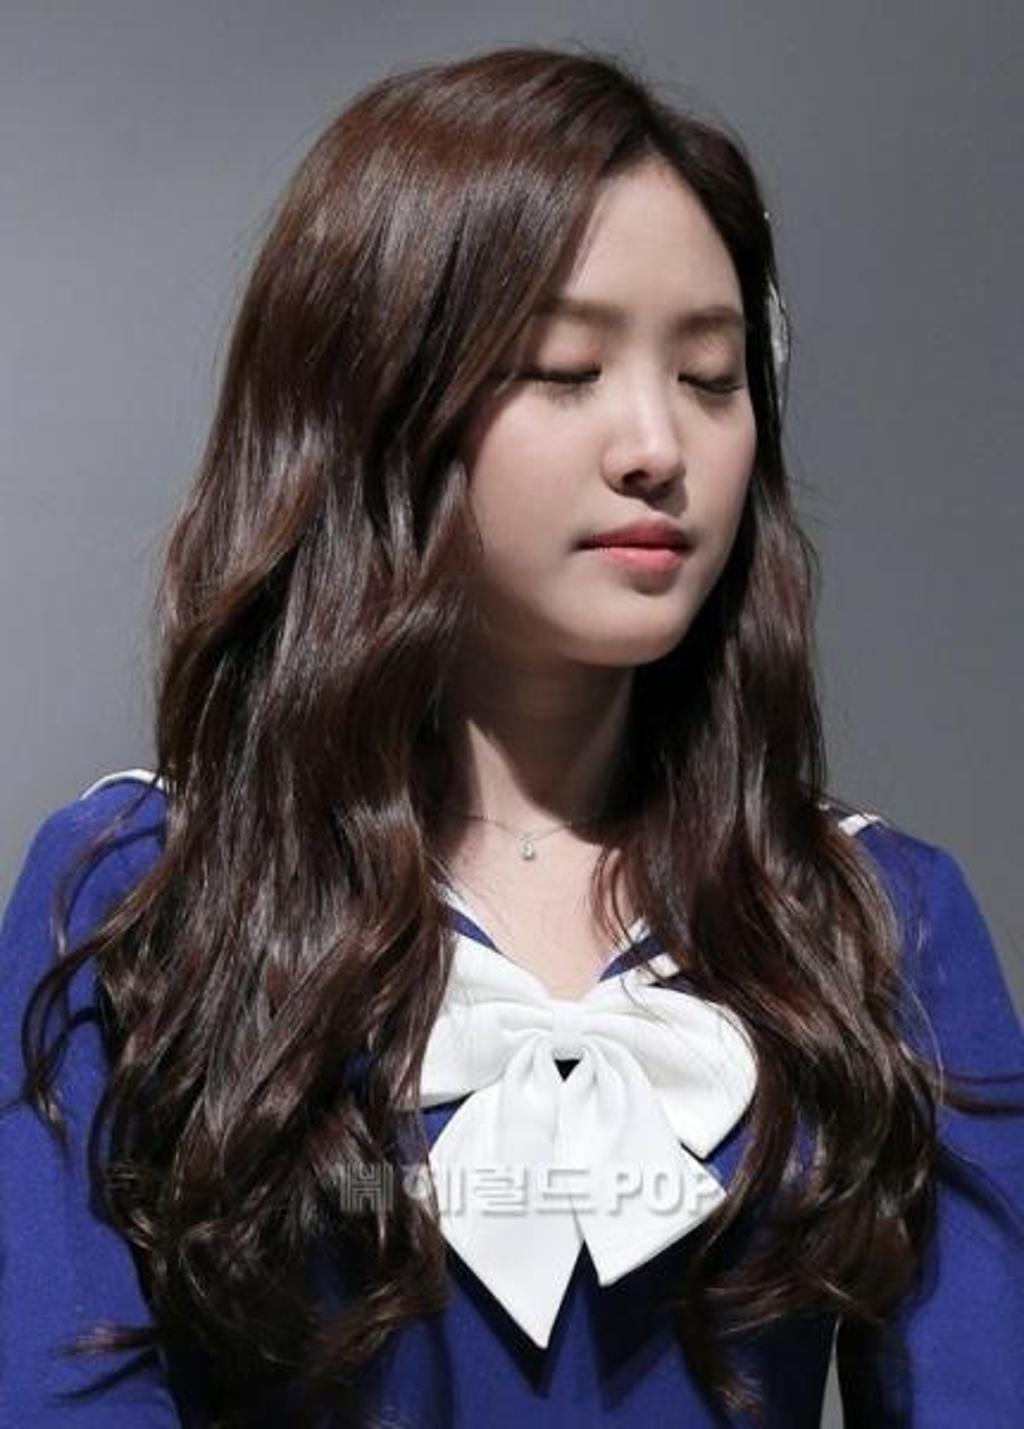face: (444, 165, 762, 664)
